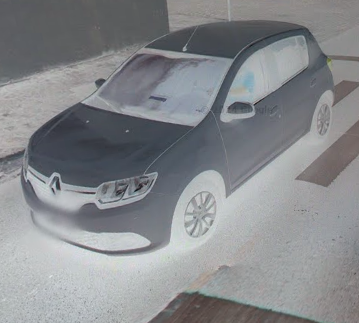car: (18, 5, 335, 260)
